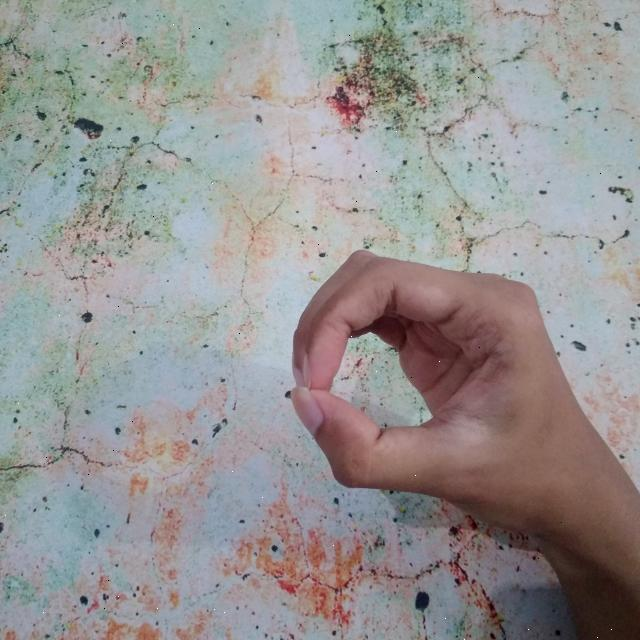O: (285, 242, 640, 640)
